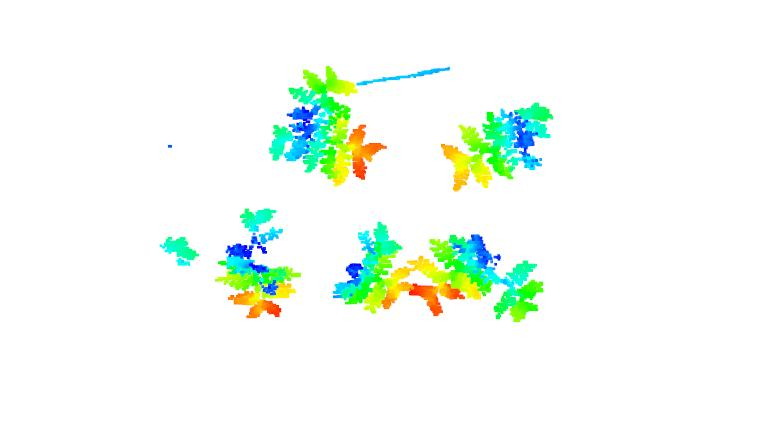chickpea: (268, 65, 388, 186), (411, 233, 544, 322), (440, 102, 553, 192), (216, 208, 300, 319), (334, 221, 413, 311), (159, 235, 202, 269)
